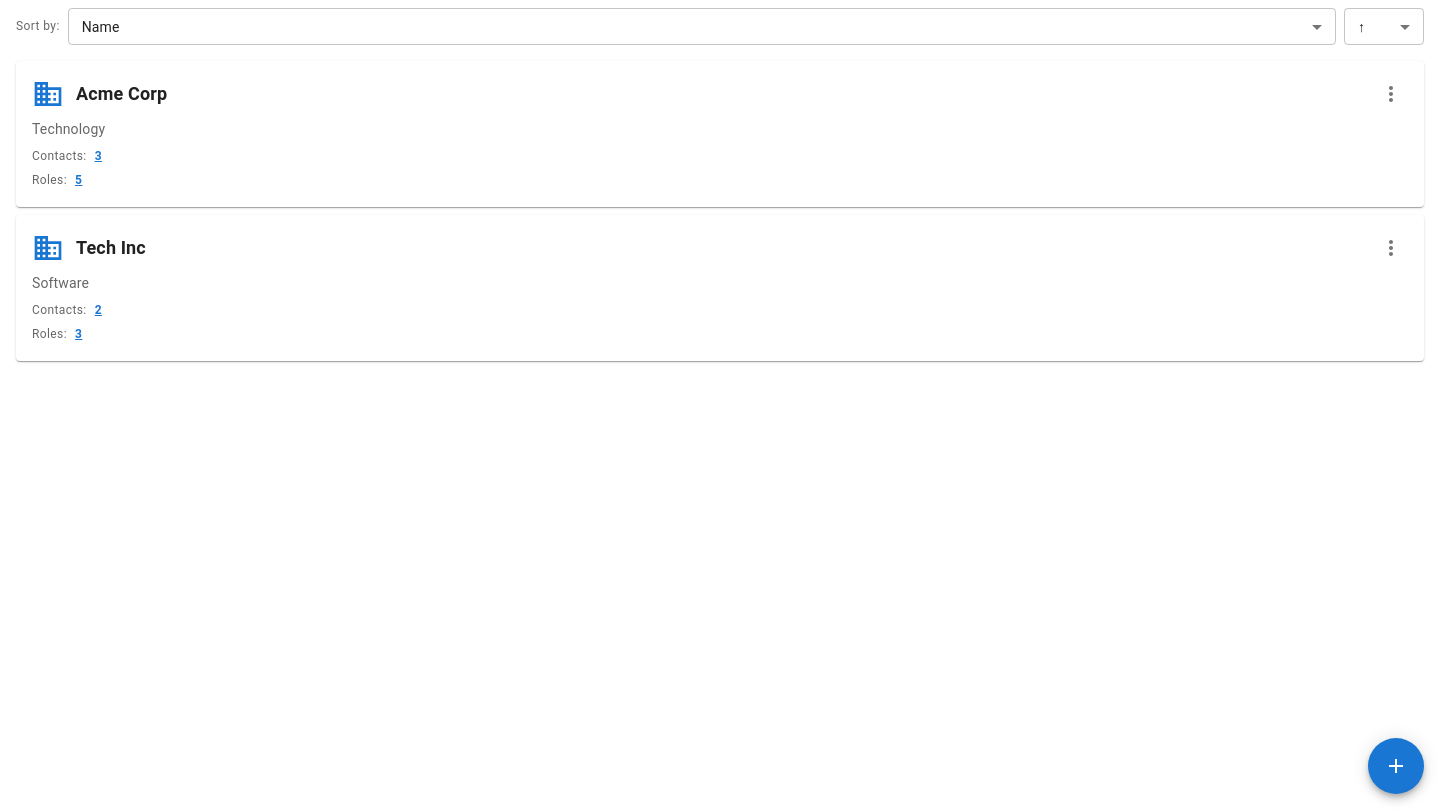
Test: HubMainView Mobile Modals › Organisation Contacts Modal › should close contacts modal when clicking close button
This screenshot has width=1440, height=810.
Expected: the text "Acme Corp" is shown, [76,80,167,108]
Click contacts count
Step 1. Click the 1st button "3" → (98, 157), box [95,147,102,167]
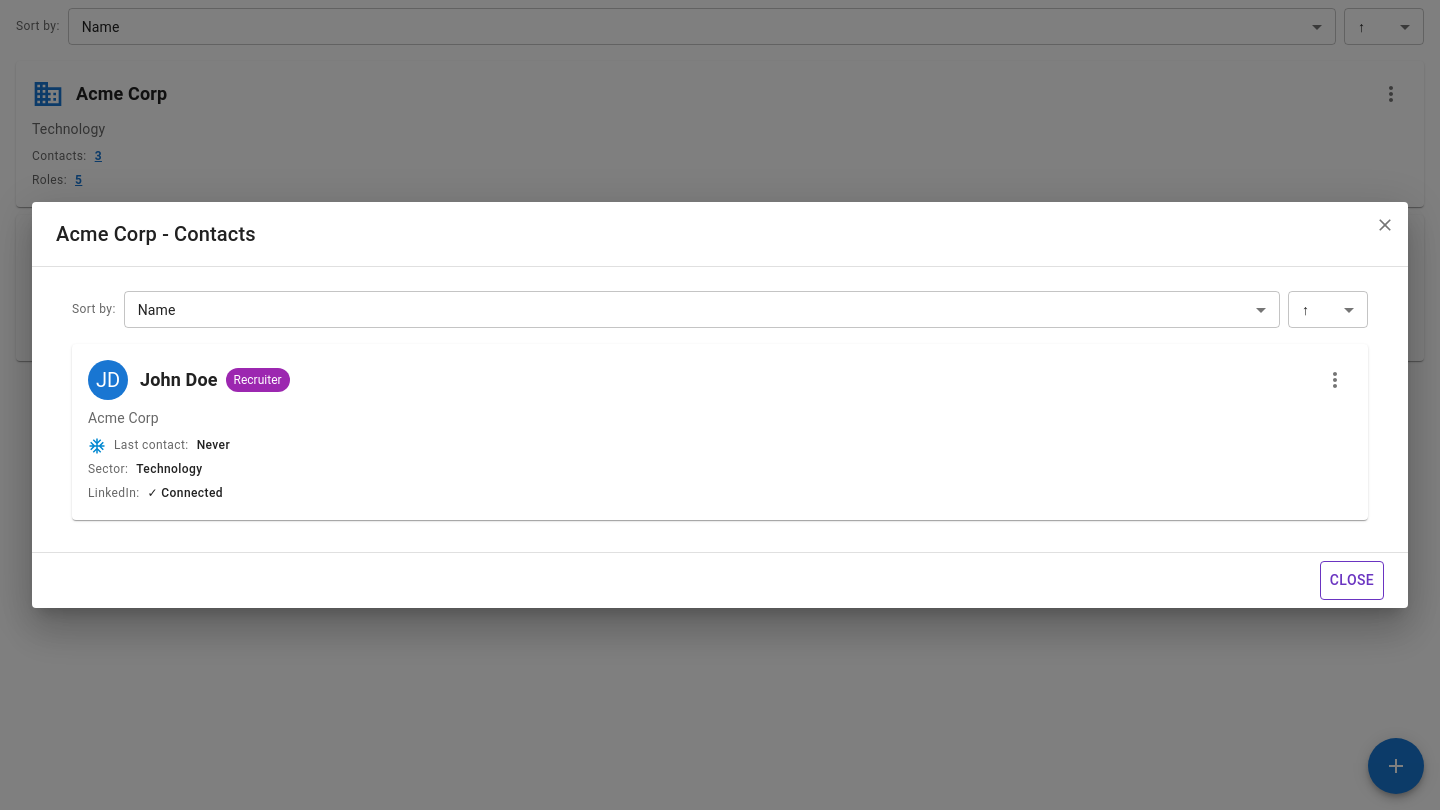
Now the dialog is shown, box [32,202,1408,608]
Now the heading "Acme Corp - Contacts" is shown, box [56,222,256,246]
Click close button
Step 2. Click the button "Close" → (1352, 580), box [1320,561,1384,600]
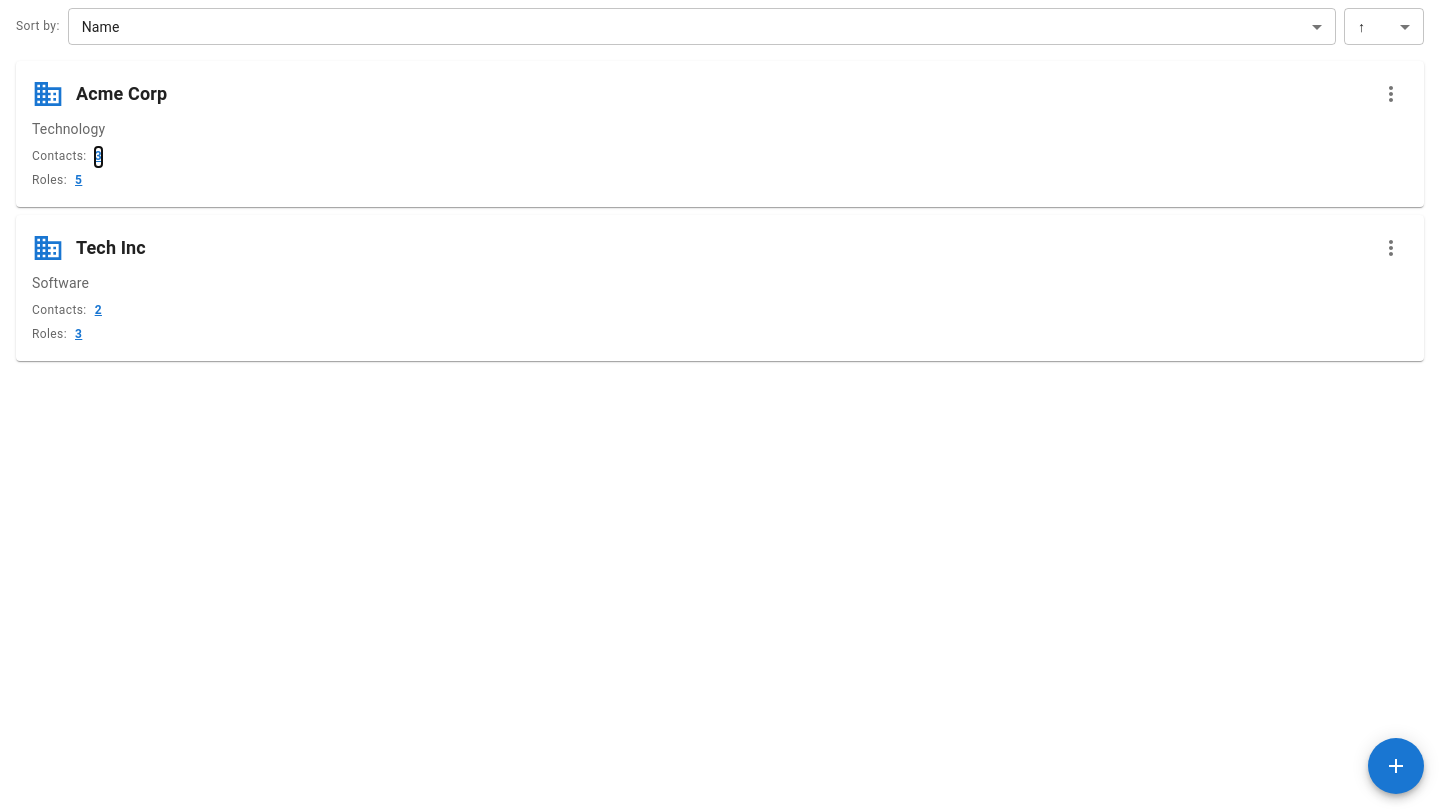
Now the button is gone
